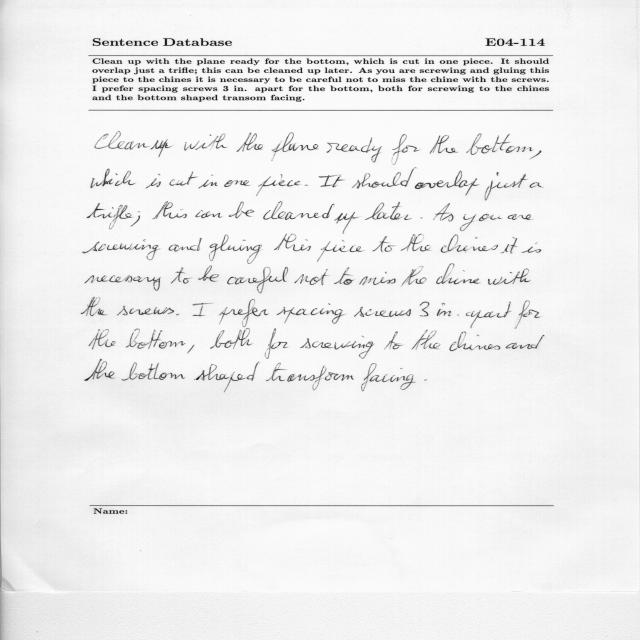word: (266, 363, 354, 390), (194, 362, 259, 392), (300, 336, 374, 359), (352, 164, 417, 189), (83, 240, 160, 261), (415, 171, 479, 196), (227, 267, 288, 293), (361, 363, 416, 391), (209, 235, 262, 264), (466, 133, 533, 155), (326, 137, 382, 163), (277, 303, 345, 324), (219, 299, 269, 327), (263, 201, 335, 220), (272, 132, 319, 161), (126, 328, 185, 349), (485, 172, 527, 201), (85, 275, 161, 291), (87, 203, 132, 229), (466, 302, 511, 328), (122, 363, 185, 381), (317, 240, 364, 262), (95, 131, 149, 150), (441, 235, 498, 253), (450, 332, 501, 352), (256, 174, 300, 196), (210, 328, 253, 349), (436, 264, 480, 284), (365, 202, 412, 220), (91, 169, 135, 188), (392, 134, 419, 163), (184, 134, 227, 151), (515, 300, 540, 329), (460, 214, 502, 231), (488, 268, 530, 285), (265, 328, 288, 359), (85, 359, 115, 381), (274, 234, 311, 251), (152, 202, 187, 219), (117, 306, 174, 316), (354, 307, 411, 317), (412, 330, 440, 350), (334, 212, 359, 234), (506, 335, 545, 349), (294, 269, 328, 285), (236, 132, 263, 152), (401, 234, 431, 252), (89, 329, 116, 349), (430, 135, 458, 154), (81, 297, 107, 316), (359, 272, 396, 285), (402, 266, 427, 285), (169, 171, 198, 186), (169, 238, 202, 251), (229, 202, 254, 219), (433, 203, 454, 222), (150, 140, 171, 158), (372, 236, 395, 252), (334, 267, 354, 285), (198, 265, 219, 282), (384, 332, 403, 350), (171, 267, 190, 284), (319, 175, 345, 187), (501, 237, 518, 254), (437, 303, 459, 316), (199, 175, 218, 189), (193, 303, 211, 317), (522, 242, 542, 253), (195, 210, 222, 218), (146, 174, 161, 188), (224, 180, 250, 187), (131, 211, 141, 226), (508, 214, 532, 220), (420, 302, 429, 317), (531, 150, 542, 159), (530, 182, 543, 188), (188, 345, 195, 354), (424, 379, 427, 381), (305, 185, 309, 186), (420, 218, 423, 219), (177, 314, 180, 315)
